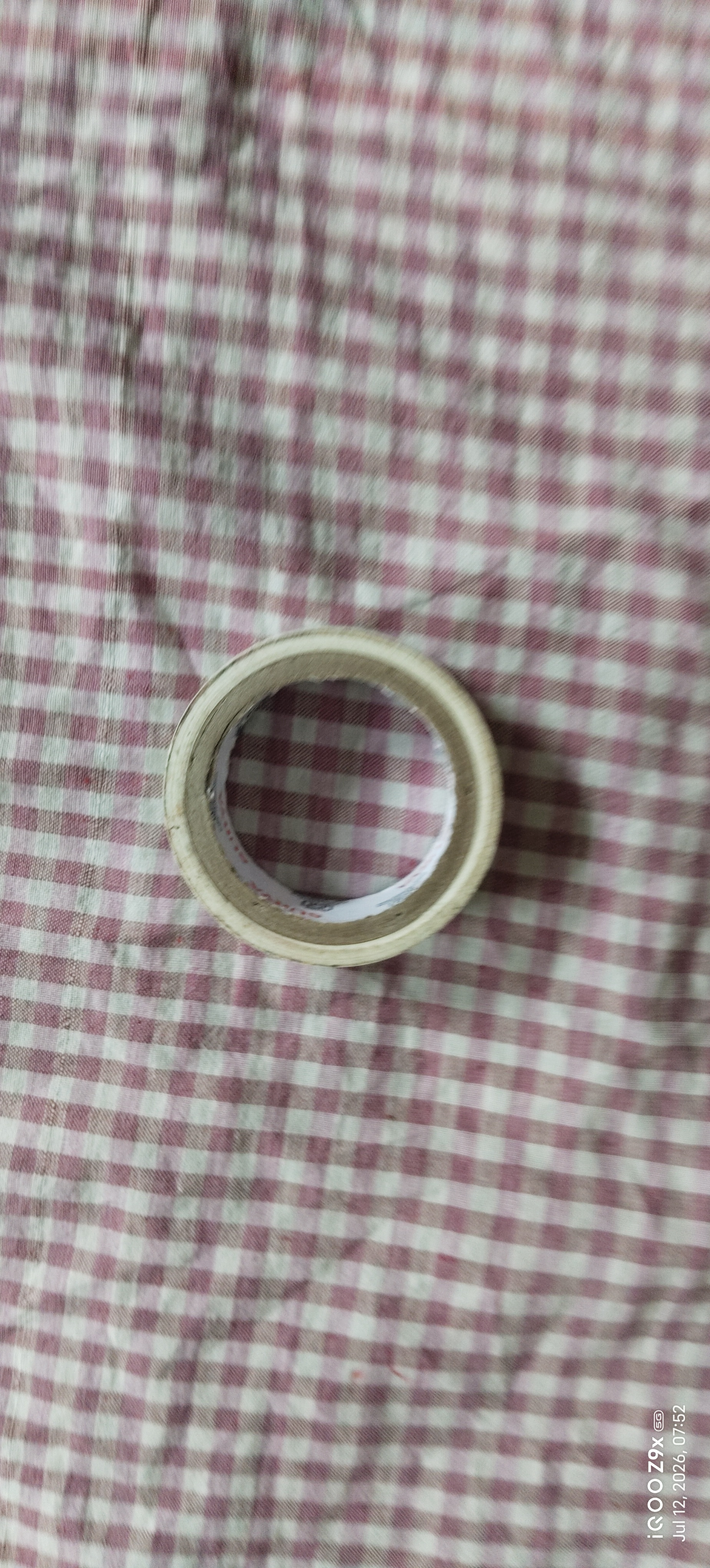tape_roll: (139, 612, 530, 1003)
